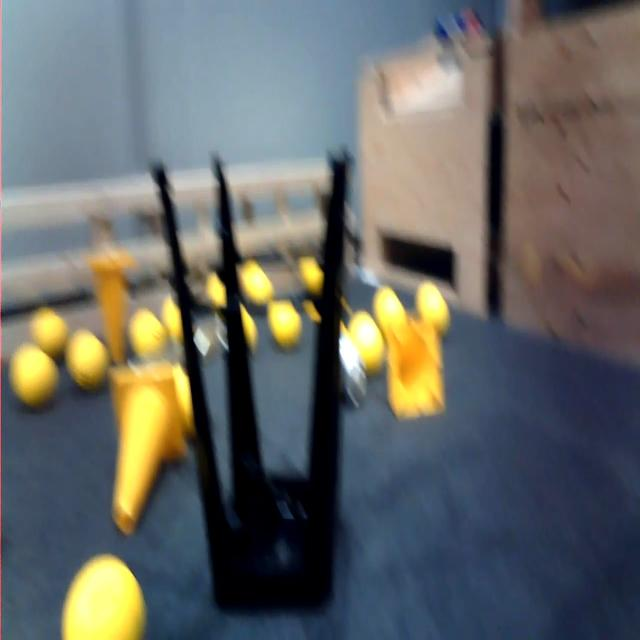fuel: (58, 547, 150, 640), (61, 319, 116, 394), (334, 300, 385, 380), (402, 267, 458, 330), (12, 338, 61, 402), (231, 248, 277, 315), (266, 290, 312, 355), (126, 301, 171, 366), (366, 270, 411, 332), (26, 296, 61, 355), (293, 248, 328, 289)
